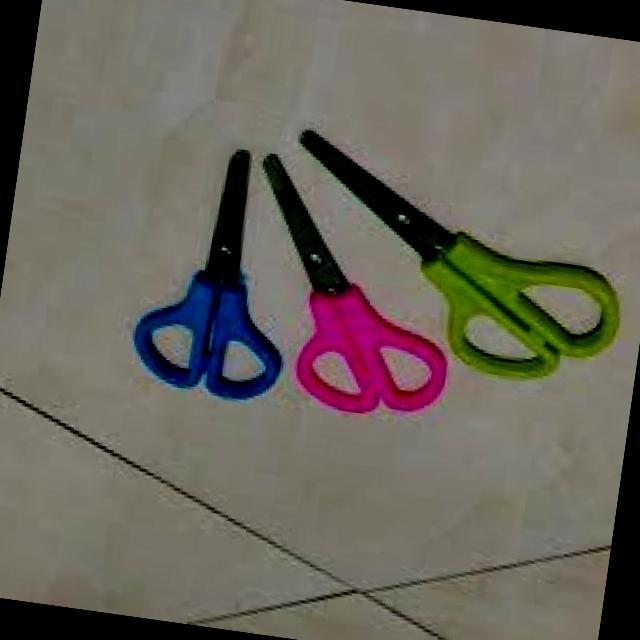Scissors: (265, 110, 640, 403), (224, 138, 483, 438), (121, 130, 320, 414)
